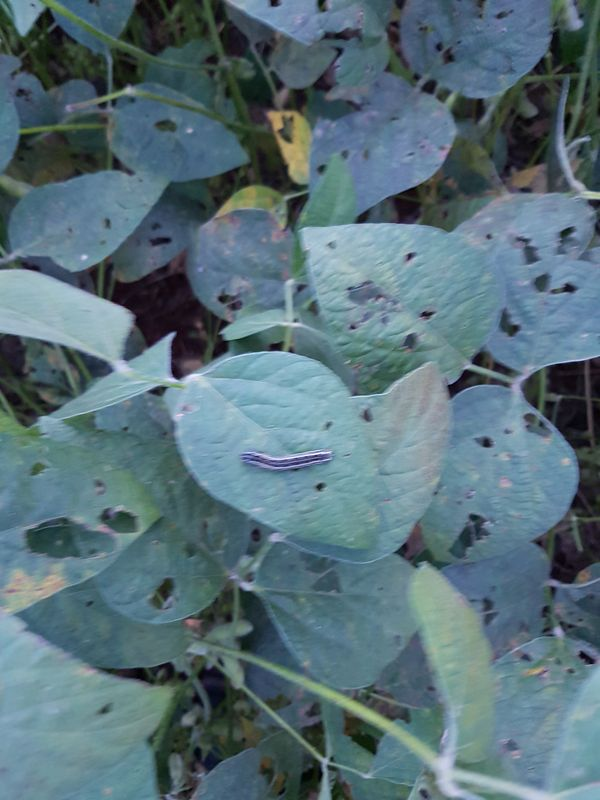Spodoptera_albula: (228, 431, 343, 492)
